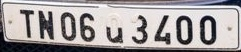character: (37, 9, 55, 39), (175, 14, 193, 44), (131, 13, 148, 44), (199, 14, 216, 45), (59, 11, 77, 40), (78, 11, 95, 41), (153, 14, 170, 44), (20, 9, 34, 38)
